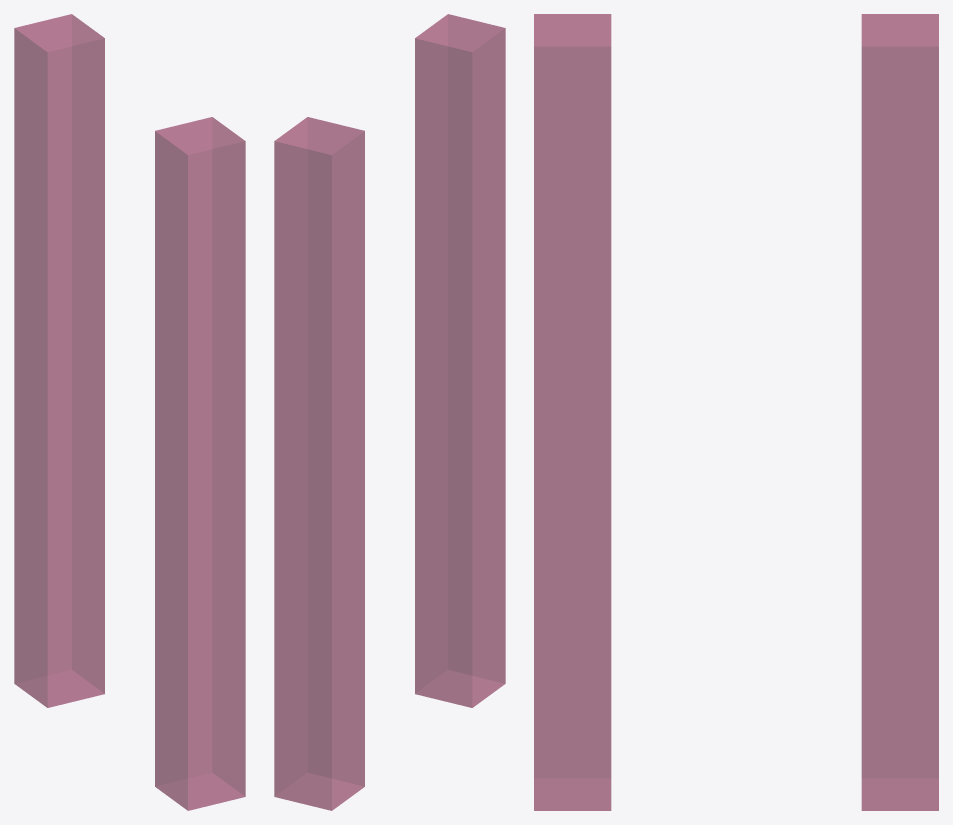
Rendered from SM_Bld_Stairs_Curved_Pillars_01_Collision.fbx.
3 renders of one model, left to right at view 1: azimuth 30°, elevation 25°; view 2: azimuth 150°, elevation 25°; view 3: azimuth 270°, elevation 25°, orthographic. The views are drawn at different scales.
Parts seen in each view (by area): view 1: SM_Bld_Stairs_Curved_Pillars_01_Collision; view 2: SM_Bld_Stairs_Curved_Pillars_01_Collision; view 3: SM_Bld_Stairs_Curved_Pillars_01_Collision.
Part boxes in pixels (x1=…): SM_Bld_Stairs_Curved_Pillars_01_Collision: x1=14, y1=14, x2=245, y2=810; SM_Bld_Stairs_Curved_Pillars_01_Collision: x1=274, y1=14, x2=505, y2=810; SM_Bld_Stairs_Curved_Pillars_01_Collision: x1=534, y1=14, x2=938, y2=810.
Bounding box in the file's own units: 28.02 × 305 × 147.
